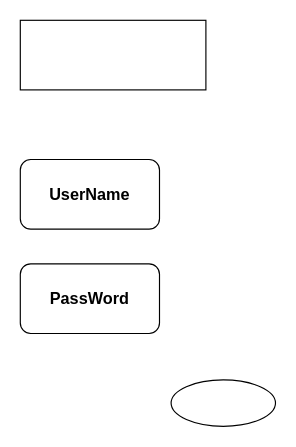
Image size: 296x447. Some labels were removed from this diagram. Each missing label, with the centre of its shape:
"Login" belongs at point 223,402.
"Login Portal" belongs at point 112,54.
